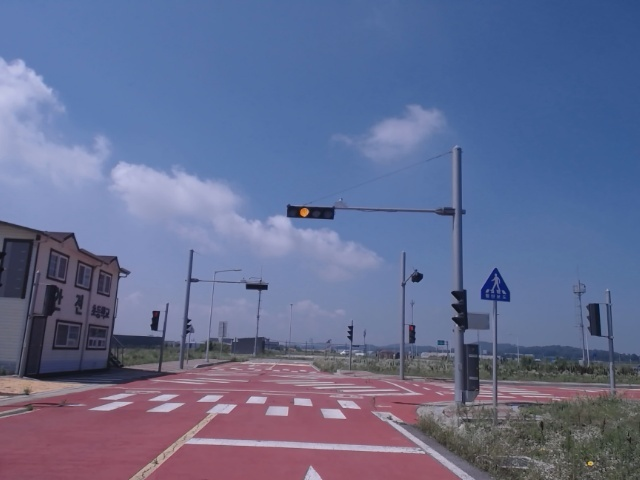orange_4: (289, 205, 336, 221)
